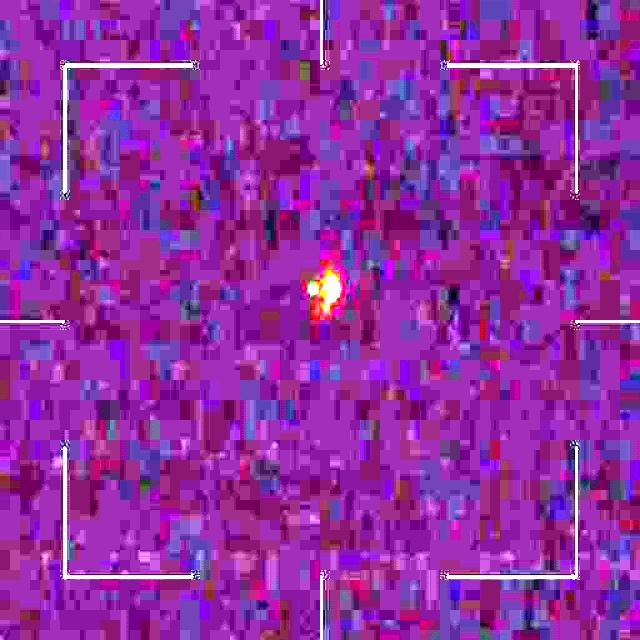bird: (308, 271, 339, 322)
